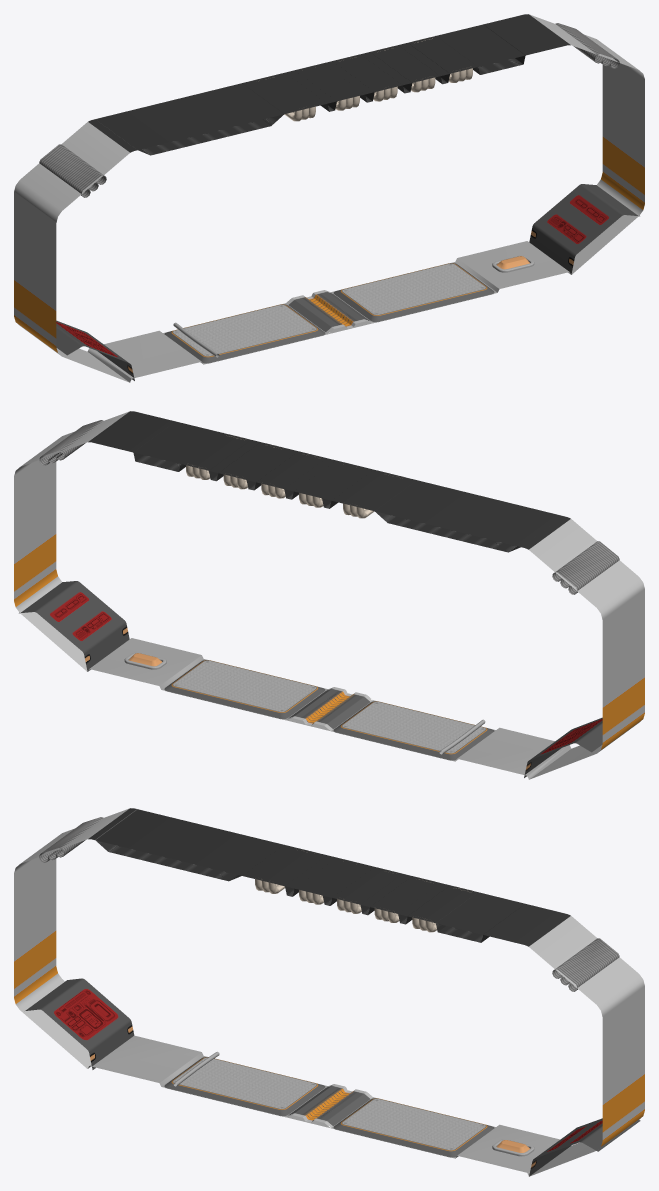
The model's file is MOD_1a.fbx.
3 views of the same model, one above another, from view 1: azimuth 30°, elevation 25°; view 2: azimuth 150°, elevation 25°; view 3: azimuth 330°, elevation 25° (orthographic).
Parts seen in each view (by area): view 1: MOD_1a; view 2: MOD_1a; view 3: MOD_1a.
Part boxes in pixels (bbox=[...]): MOD_1a: bbox=[14, 14, 644, 382]; MOD_1a: bbox=[14, 411, 644, 779]; MOD_1a: bbox=[14, 808, 644, 1176].
Bounding box in the file's own units: 8 × 3 × 1.02.
